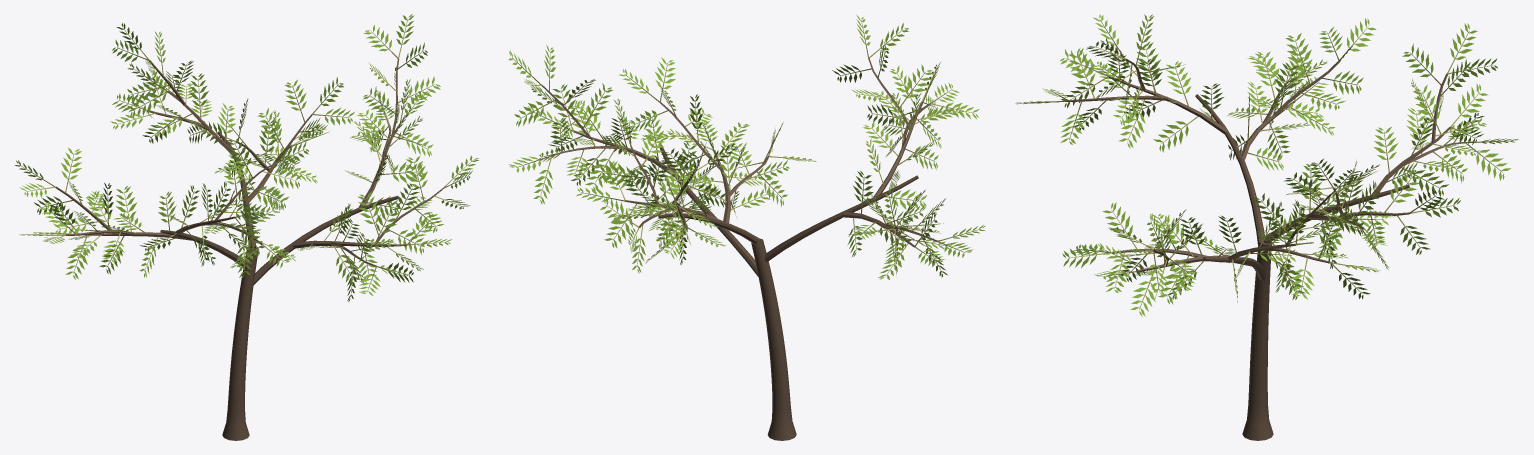
The picture shows the model from 3 angles, left to right: view 1: azimuth 30°, elevation 25°; view 2: azimuth 150°, elevation 25°; view 3: azimuth 270°, elevation 25°; orthographic projection. The views are drawn at different scales.
Visible parts, largest first — view 1: body; view 2: body; view 3: body.
Part boxes in pixels (bbox=[...]): body: bbox=[15, 14, 478, 440]; body: bbox=[508, 14, 985, 440]; body: bbox=[1015, 14, 1518, 440].
Size of the model in its own units: 4.63 by 3.71 by 4.25.
1 material, 1 textured.
